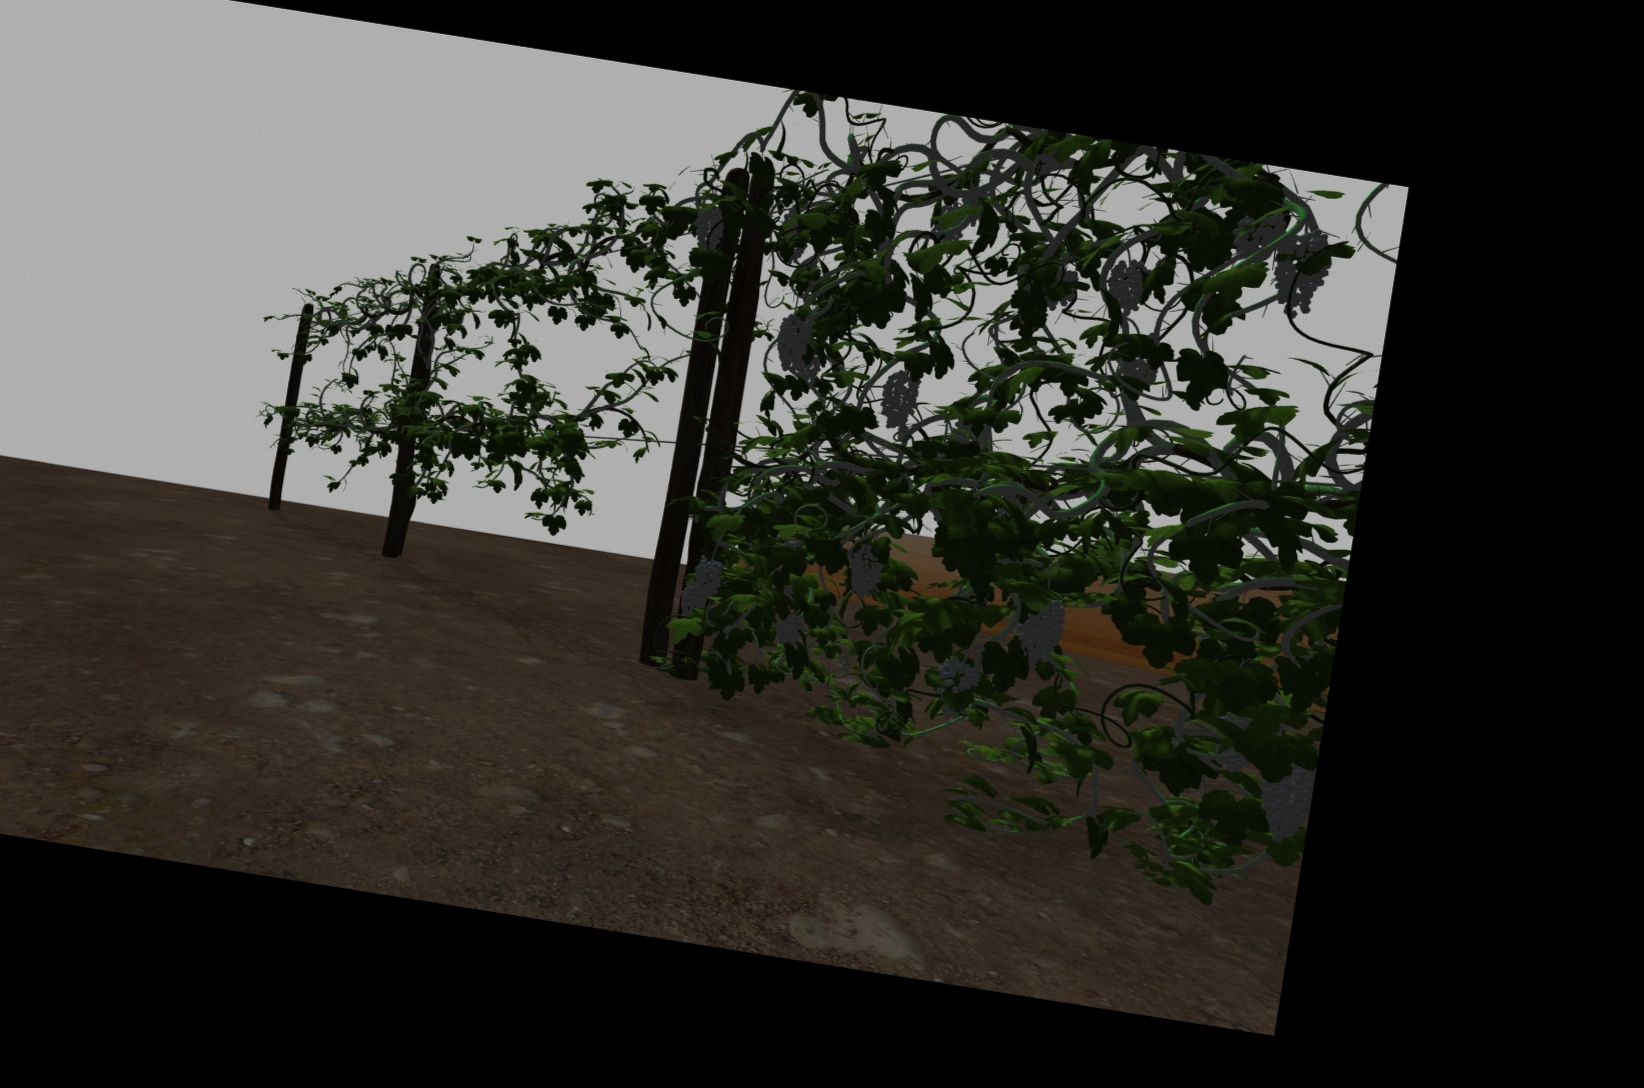grape: (1272, 231, 1330, 314), (1016, 596, 1065, 667), (1260, 767, 1305, 841), (1234, 210, 1281, 263), (1106, 257, 1147, 314), (773, 314, 812, 372), (881, 372, 919, 427), (847, 544, 883, 600), (937, 654, 981, 693), (693, 206, 724, 253), (773, 602, 805, 644), (678, 585, 709, 622), (695, 555, 721, 596)
